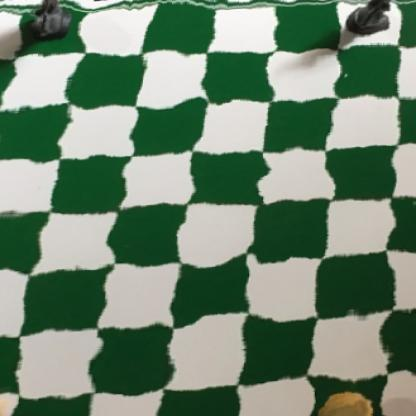black-knight: (23, 0, 81, 46), (344, 0, 399, 39)
white-knight: (321, 385, 377, 416), (0, 392, 14, 416)
